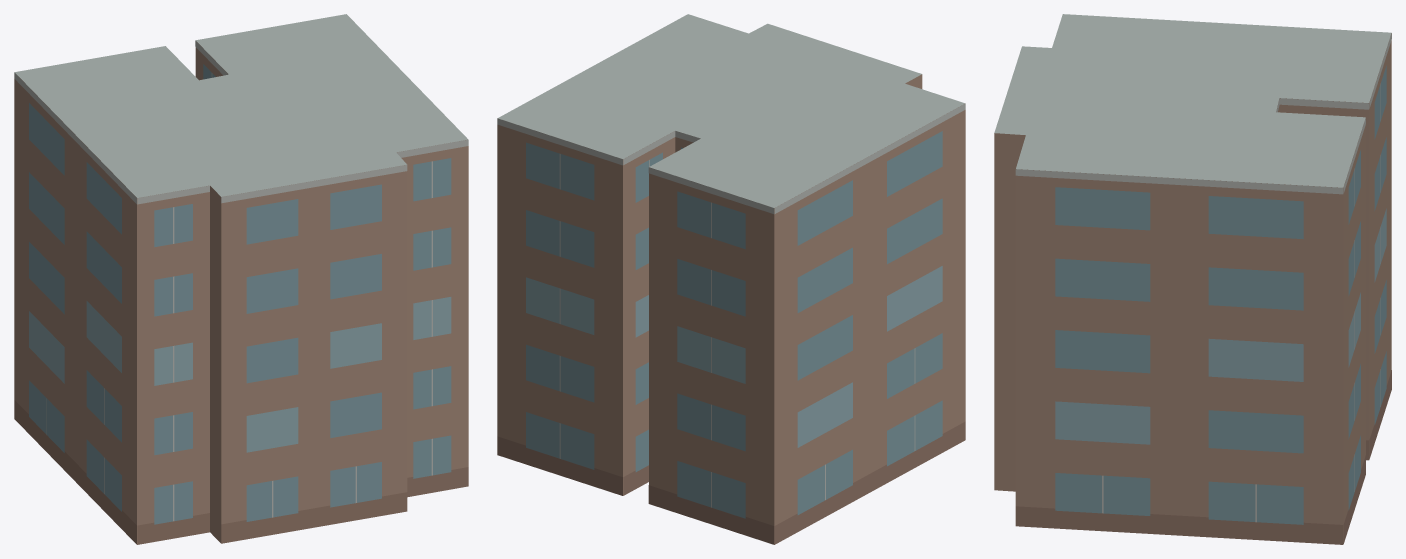
File: survey-upis-32659150.glb
3 views of the same model, side by side, from view 1: azimuth 30°, elevation 25°; view 2: azimuth 150°, elevation 25°; view 3: azimuth 270°, elevation 25° (orthographic). The views are drawn at different scales.
Visible parts, largest first — view 1: survey-upis-32659150.tmp; view 2: survey-upis-32659150.tmp; view 3: survey-upis-32659150.tmp.
Part boxes in pixels (x1,y1,x2,y2): survey-upis-32659150.tmp: (14, 14, 468, 544); survey-upis-32659150.tmp: (497, 14, 965, 544); survey-upis-32659150.tmp: (994, 14, 1391, 544).
Bounding box in the file's own units: 13.68 × 13.1 × 13.22.
